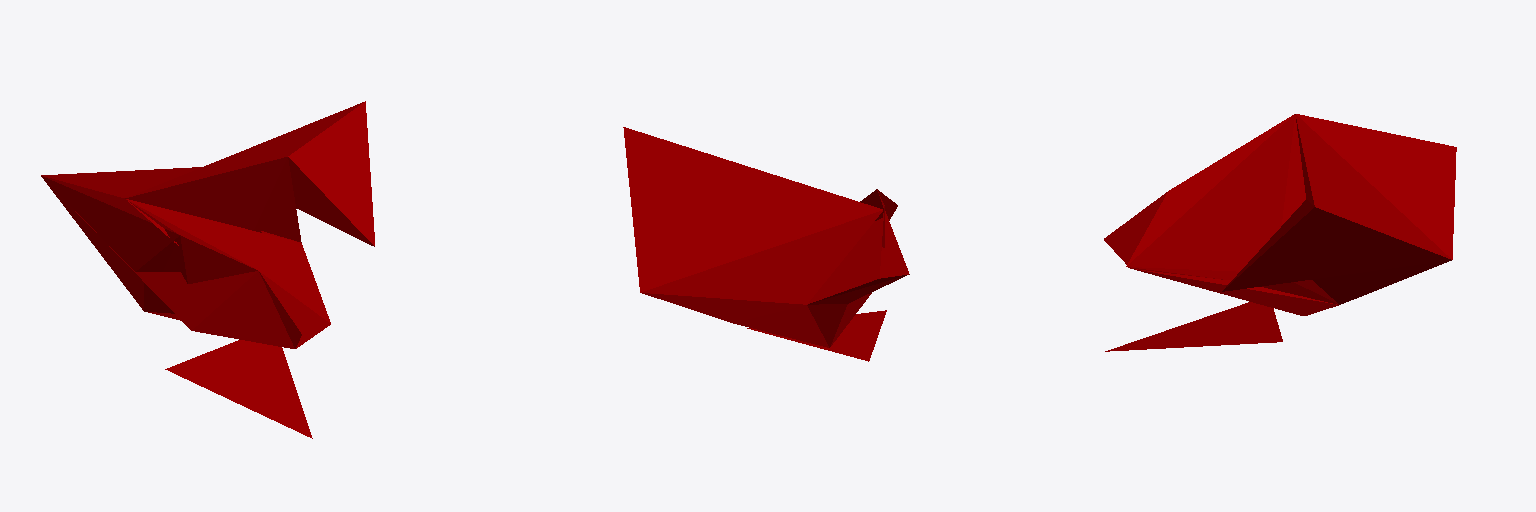
The model's file is Skull_45.obj.
3 views of the same model, side by side, from view 1: azimuth 30°, elevation 25°; view 2: azimuth 150°, elevation 25°; view 3: azimuth 270°, elevation 25° (orthographic).
Parts seen in each view (by area): view 1: DeathClawSKULL; view 2: DeathClawSKULL; view 3: DeathClawSKULL.
Boxes of the visible parts, <box> form: DeathClawSKULL: <box>41,101,374,438</box>; DeathClawSKULL: <box>623,127,909,361</box>; DeathClawSKULL: <box>1104,114,1456,351</box>.
Bounding box in the file's own units: 1.8 × 1.5 × 2.16.